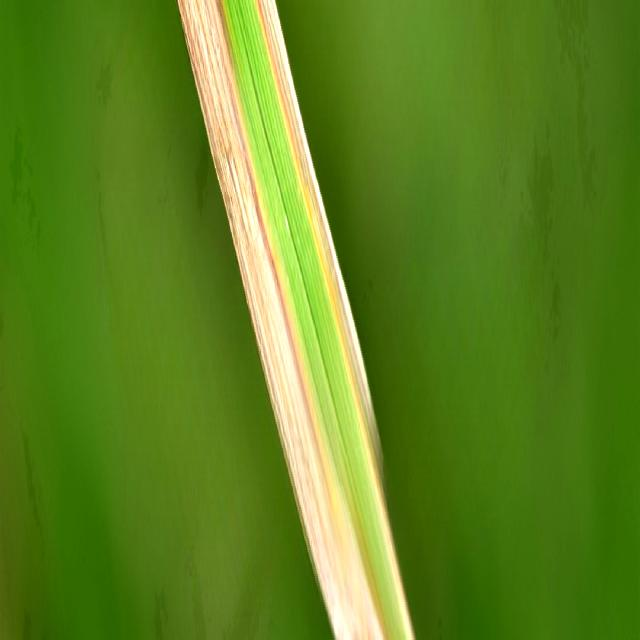BLB: (178, 0, 393, 640), (253, 0, 413, 640)
